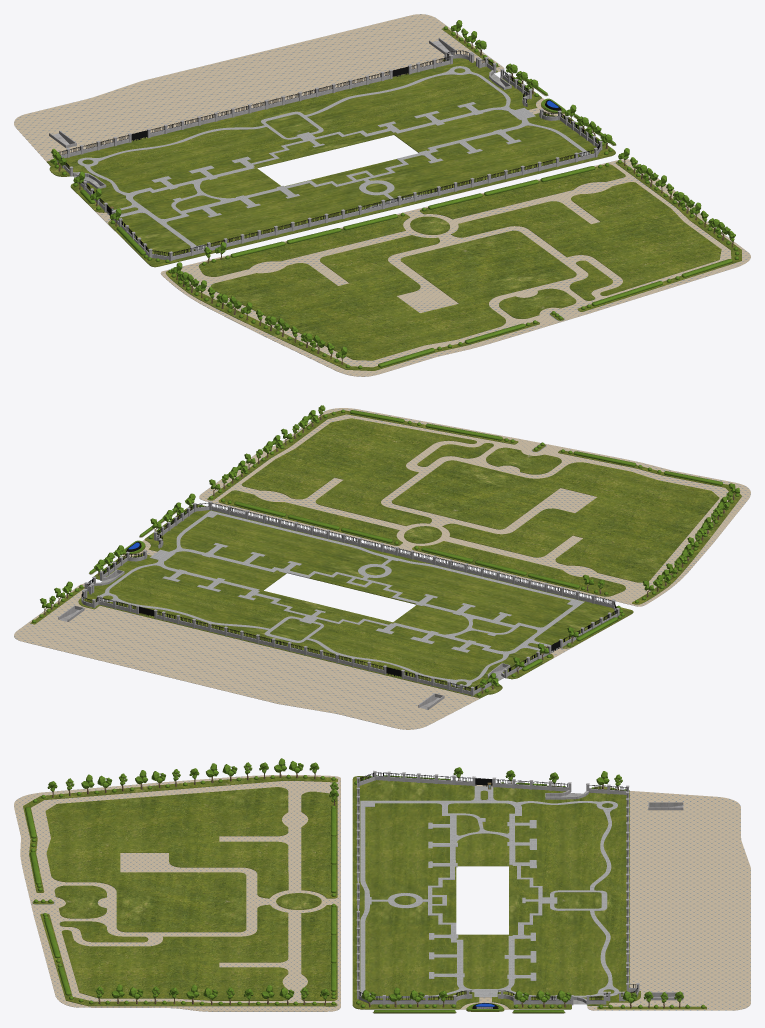
Rendered from 3_floor.FBX.
3 views of the same model, one above another, from view 1: azimuth 30°, elevation 25°; view 2: azimuth 150°, elevation 25°; view 3: azimuth 270°, elevation 25° (orthographic). The views are drawn at different scales.
Visible parts, largest first — view 1: 3_grass1, 3_grass2, 3_floor2, 3_floor1, 3_floor3; view 2: 3_grass1, 3_grass2, 3_floor2, 3_floor1, 3_floor3; view 3: 3_grass1, 3_grass2, 3_floor2, 3_floor1, 3_floor3.
Boxes of the visible parts, box(x1,y1,x2,y2) form: 3_grass1: box(166, 161, 741, 370); 3_grass2: box(47, 58, 615, 267); 3_floor2: box(14, 14, 610, 267); 3_floor1: box(160, 159, 750, 376); 3_floor3: box(77, 66, 590, 250); 3_grass1: box(207, 410, 741, 604); 3_grass2: box(78, 504, 633, 698); 3_floor2: box(14, 539, 631, 729); 3_floor1: box(199, 408, 750, 606); 3_floor3: box(100, 510, 584, 687); 3_grass1: box(23, 776, 337, 1006); 3_grass2: box(352, 776, 640, 1009); 3_floor2: box(358, 783, 750, 1010); 3_floor1: box(14, 775, 340, 1011); 3_floor3: box(360, 786, 619, 998).
Bounding box in the file's own units: 199 × 9.1 × 260.
